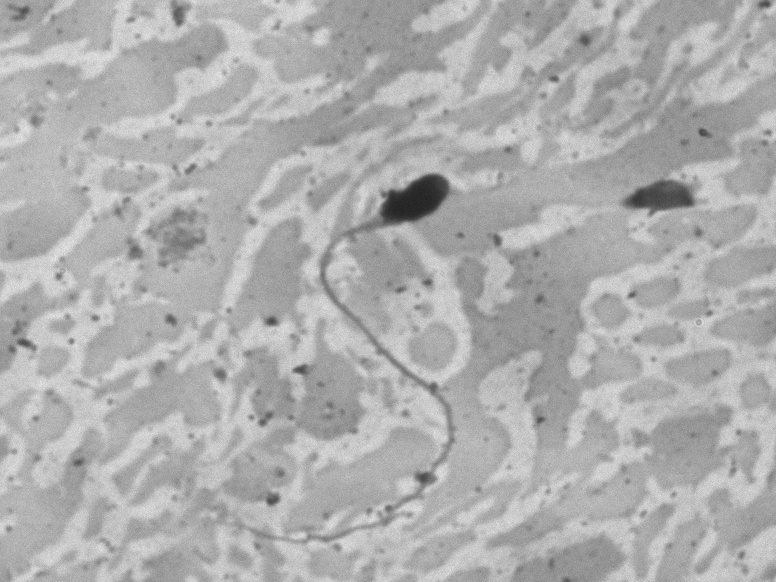Abnormal: (230, 151, 494, 561)
